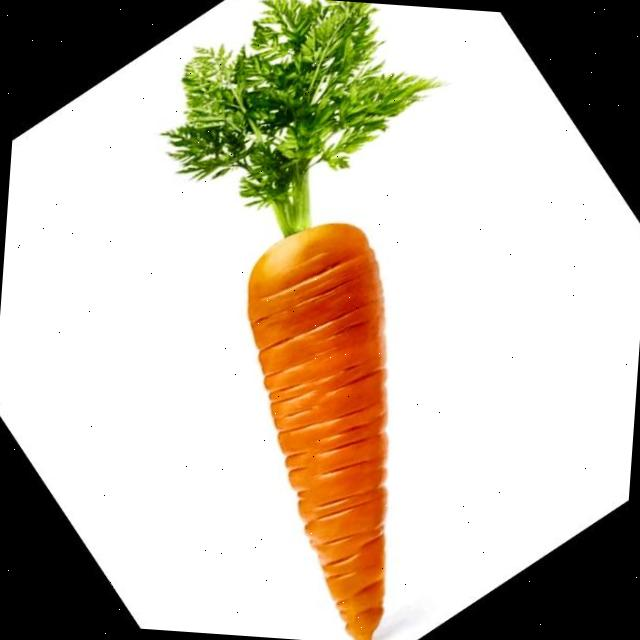carrot: (165, 0, 439, 640)
